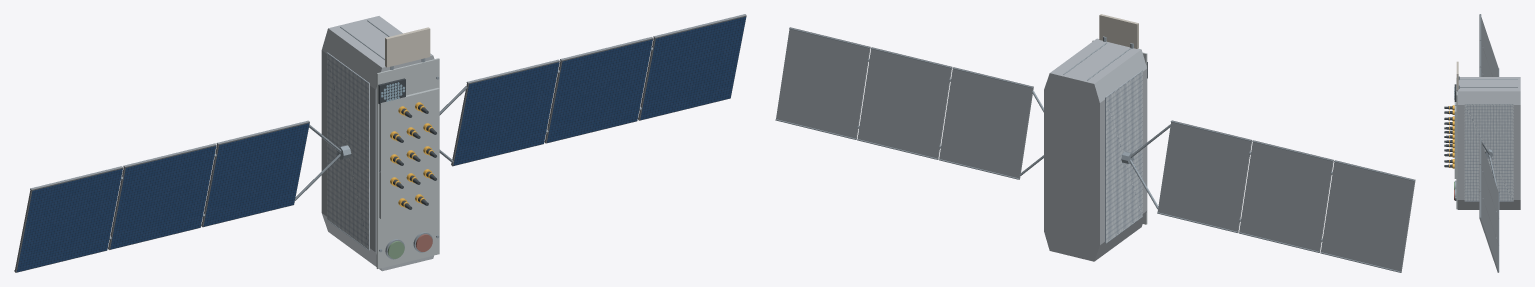
File: beidou-3-secm-b.glb
3 views of the same model, side by side, from view 1: azimuth 30°, elevation 25°; view 2: azimuth 150°, elevation 25°; view 3: azimuth 270°, elevation 25° (orthographic). The views are drawn at different scales.
Parts seen in each view (by area): view 1: Solar cell strings (×6), Optical solar reflector tiles, Equipment bus, Navigation antenna mounting plate, Earth-facing equipment deck, Solar leaf backsheet (×6), Search and rescue antenna; view 2: Solar leaf backsheet (×6), Equipment bus, Optical solar reflector tiles, Search and rescue antenna; view 3: Optical solar reflector tiles, Equipment bus, Solar leaf backsheet (×5), Earth-facing equipment deck, Navigation antenna mounting plate, Search and rescue antenna, Solar wing yoke.
Boxes of the visible parts, box(x1,y1,x2,y2) form: Solar cell strings (×6): box(17, 17, 745, 272); Optical solar reflector tiles: box(327, 53, 369, 250); Equipment bus: box(321, 16, 434, 271); Navigation antenna mounting plate: box(379, 88, 439, 218); Earth-facing equipment deck: box(376, 58, 439, 268); Solar leaf backsheet (×6): box(14, 14, 746, 272); Search and rescue antenna: box(385, 27, 430, 67); Solar leaf backsheet (×6): box(776, 27, 1415, 272); Equipment bus: box(1044, 38, 1147, 261); Optical solar reflector tiles: box(1105, 71, 1142, 243); Search and rescue antenna: box(1099, 14, 1138, 48); Optical solar reflector tiles: box(1464, 104, 1513, 201); Equipment bus: box(1457, 77, 1520, 209); Solar leaf backsheet (×5): box(1479, 14, 1498, 272); Earth-facing equipment deck: box(1456, 78, 1457, 209); Navigation antenna mounting plate: box(1454, 102, 1456, 178); Search and rescue antenna: box(1456, 61, 1458, 90); Solar wing yoke: box(1488, 155, 1498, 190).
Bounding box in the file's own units: 10.3 × 3.2 × 1.63.
Materials: 12 (2 with a texture image).
